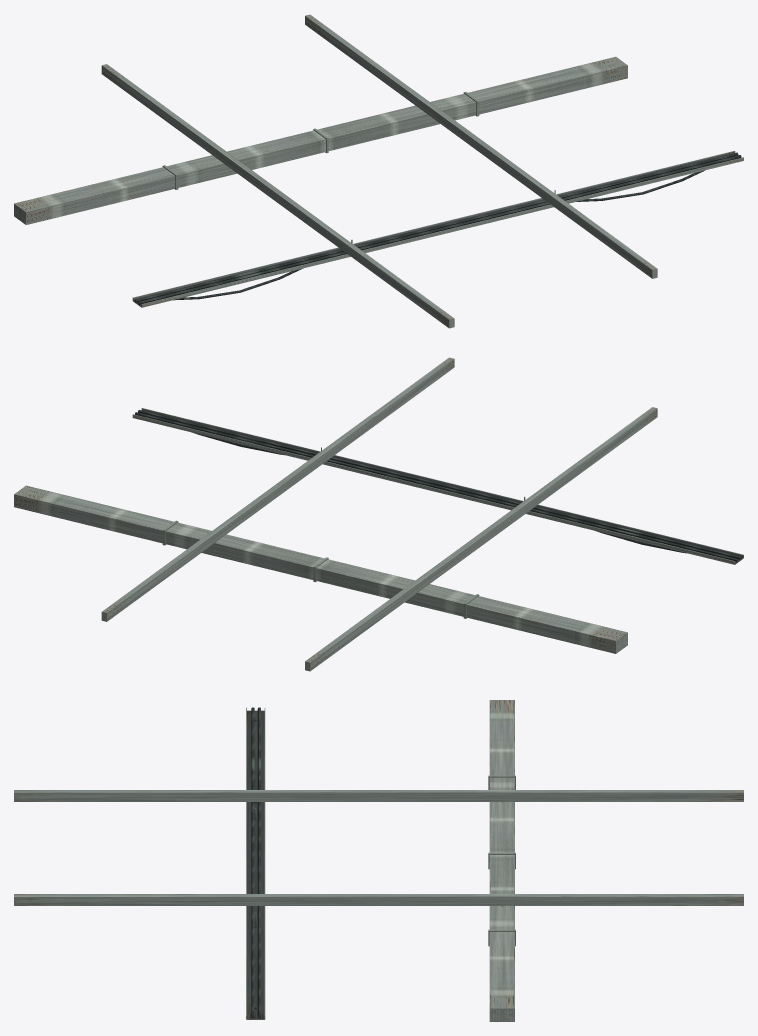
Rendered from ceiling_labs.glb.
The picture shows the model from 3 angles, top to bottom: view 1: azimuth 30°, elevation 25°; view 2: azimuth 150°, elevation 25°; view 3: azimuth 270°, elevation 25°; orthographic projection. The views are drawn at different scales.
Parts seen in each view (by area): view 1: Ceiling; view 2: Ceiling; view 3: Ceiling.
Part boxes in pixels (left/top/right/bottom): Ceiling: left=14, top=14, right=743, bottom=328; Ceiling: left=14, top=357, right=743, bottom=671; Ceiling: left=14, top=700, right=743, bottom=1021.
Size of the model in its own units: 15.8 by 0.7785 by 15.8.
1 material, 1 textured.
